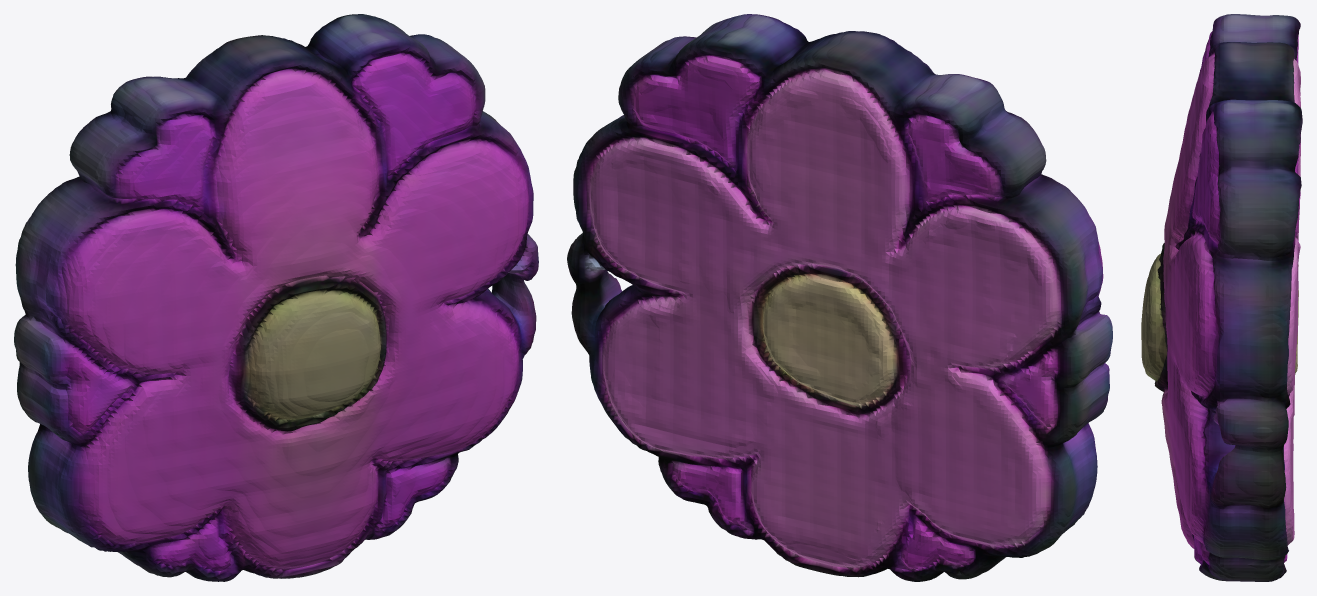
3 renders of one model, left to right at view 1: azimuth 30°, elevation 25°; view 2: azimuth 150°, elevation 25°; view 3: azimuth 270°, elevation 25°, orthographic. The views are drawn at different scales.
Visible parts, largest first — view 1: world; view 2: world; view 3: world.
Part boxes in pixels (x1=…): world: x1=14, y1=14, x2=538, y2=581; world: x1=567, y1=14, x2=1112, y2=581; world: x1=1141, y1=14, x2=1302, y2=581.
Bounding box in the file's own units: 1.02 × 0.9979 × 0.2925.
